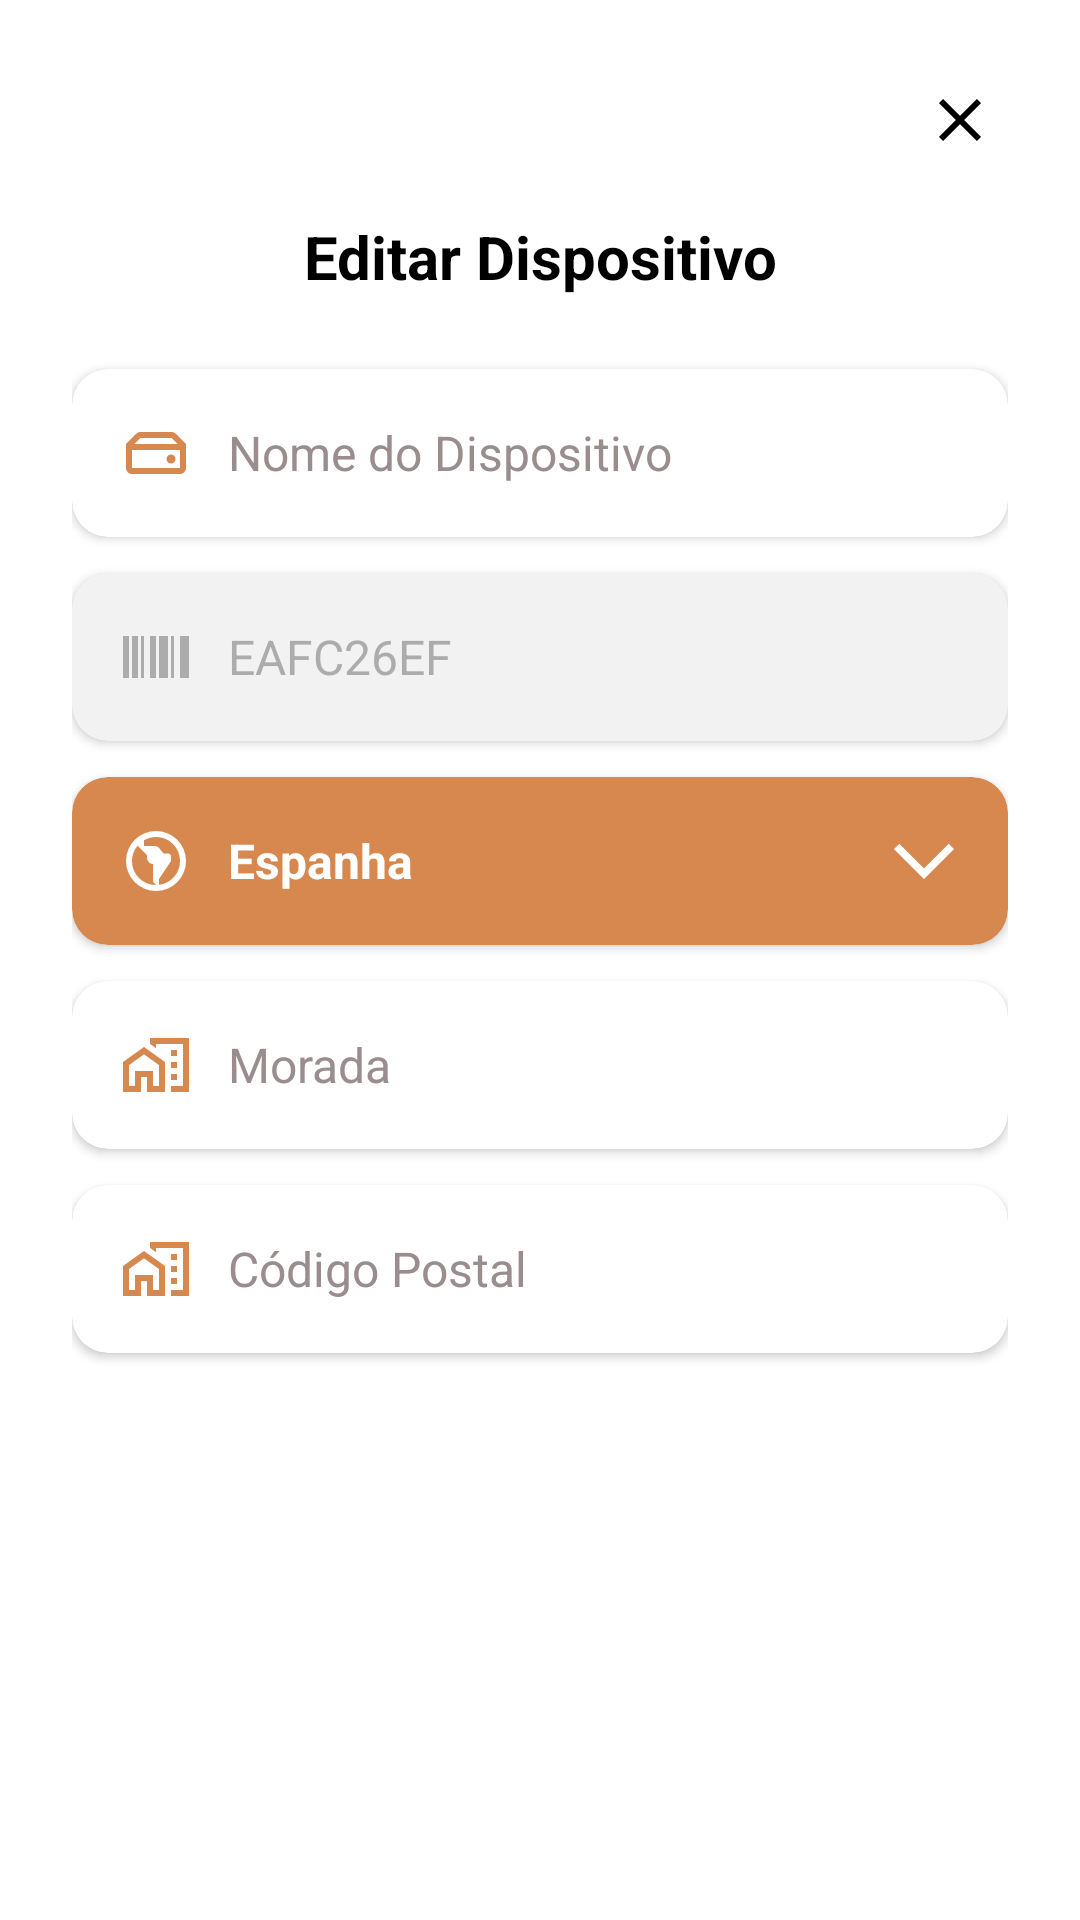

Locate icon controls on the screen. Image size 1080 x 1920, boxes as rect(x1, y1, x2, y2).
barcode: rect(123, 636, 189, 678)
close: rect(939, 99, 981, 141)
device: rect(126, 432, 186, 474)
home work: rect(123, 1038, 189, 1092), rect(123, 1242, 189, 1296)
south america: rect(126, 831, 186, 891)
